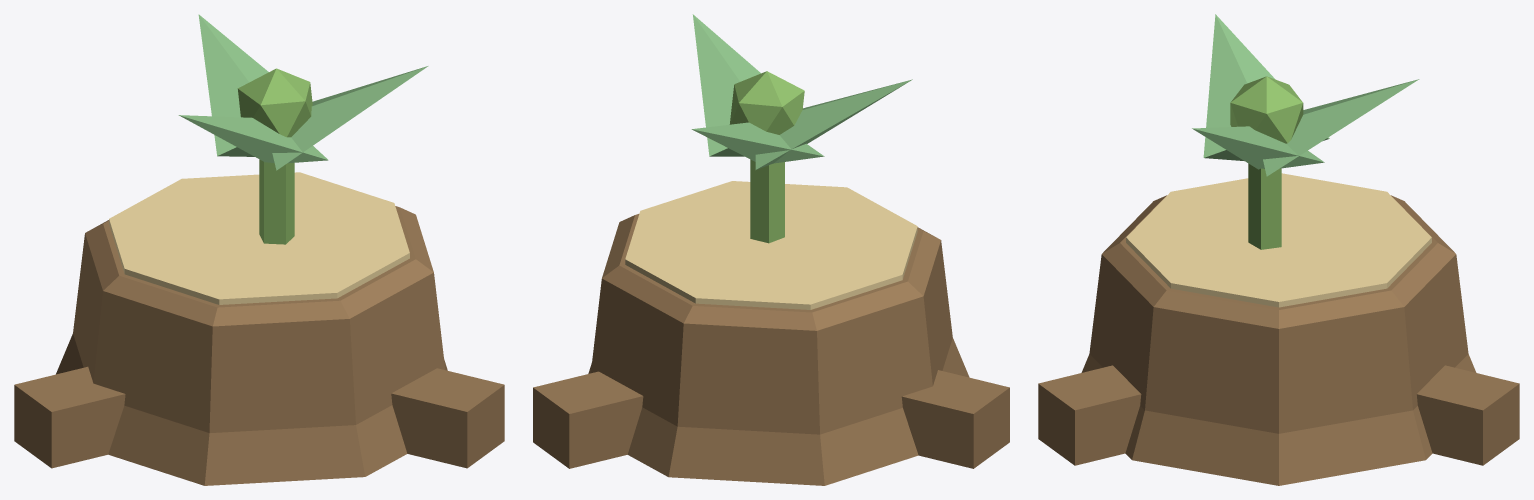
The model's file is forest-landmark-s1.glb.
The picture shows the model from 3 angles, left to right: view 1: azimuth 30°, elevation 25°; view 2: azimuth 150°, elevation 25°; view 3: azimuth 270°, elevation 25°; orthographic projection. The views are drawn at different scales.
Visible parts, largest first — view 1: forest-landmark-s1; view 2: forest-landmark-s1; view 3: forest-landmark-s1.
Boxes of the visible parts, x1=… form: forest-landmark-s1: x1=14, y1=14, x2=504, y2=485; forest-landmark-s1: x1=533, y1=14, x2=1009, y2=485; forest-landmark-s1: x1=1038, y1=14, x2=1519, y2=485.
Size of the model in its own units: 0.76 by 0.5949 by 0.7875.
